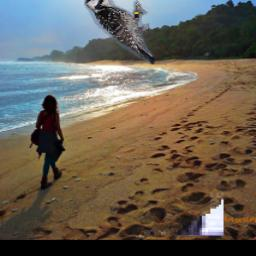Crow: (139, 38, 225, 237)
Woodpecker: (85, 0, 156, 66)
